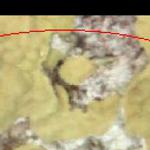alive: (13, 21, 147, 148)
